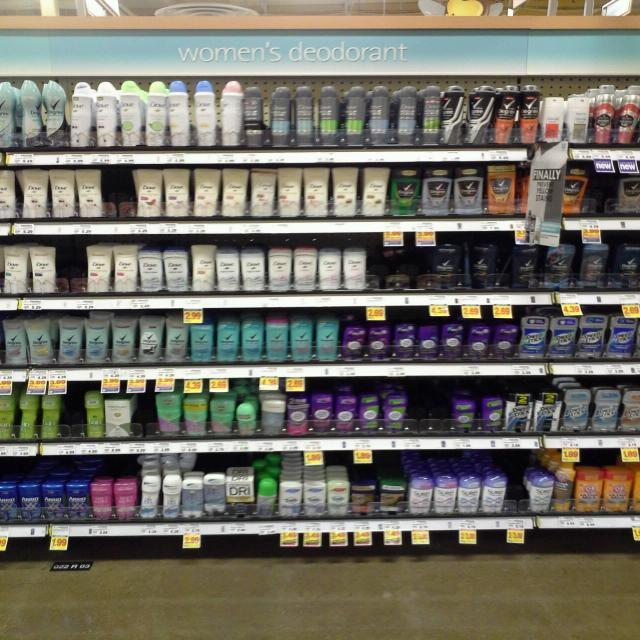void: (368, 247, 418, 286), (105, 174, 134, 217), (414, 392, 447, 422), (58, 250, 82, 290), (63, 400, 85, 434), (132, 397, 155, 427), (506, 474, 525, 505)
